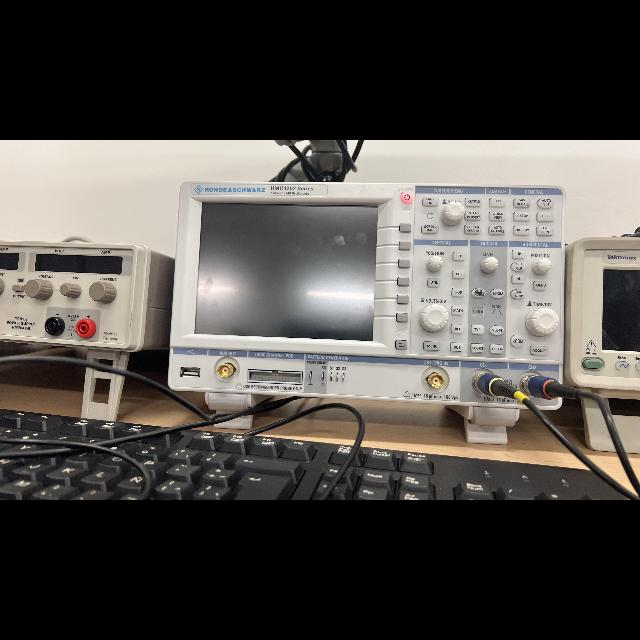Digital-Oscilloscope: (168, 182, 564, 415)
